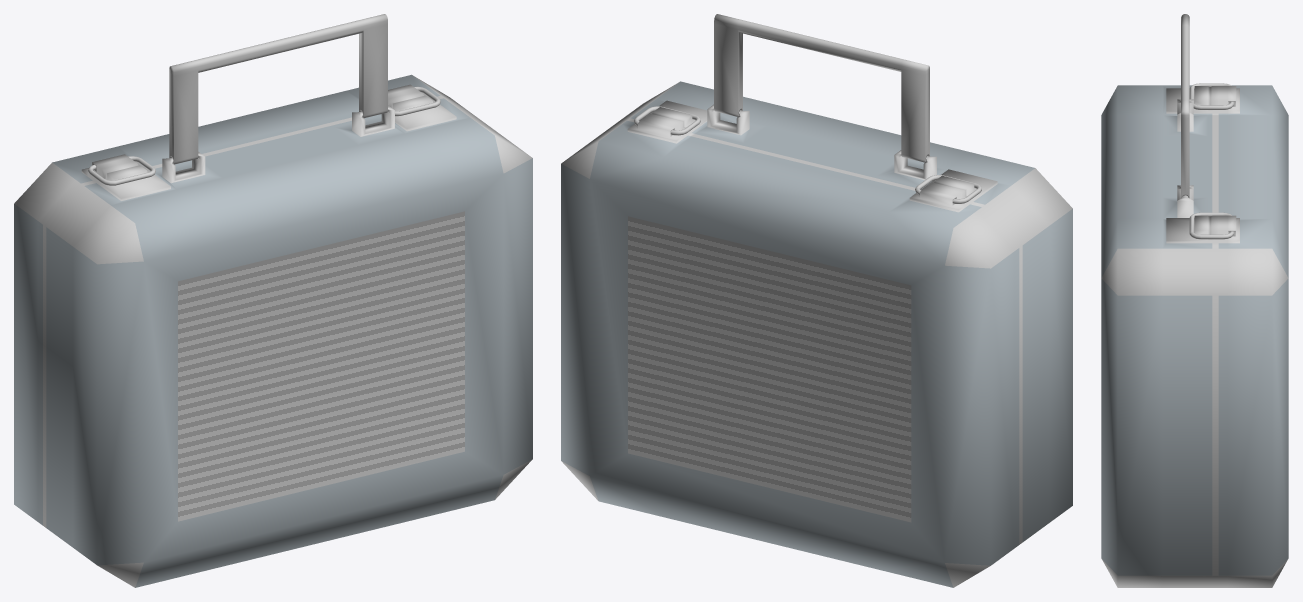
The model's file is Attache case.fbx.
3 renders of one model, left to right at view 1: azimuth 30°, elevation 25°; view 2: azimuth 150°, elevation 25°; view 3: azimuth 270°, elevation 25°, orthographic. The views are drawn at different scales.
Parts seen in each view (by area): view 1: Attache case; view 2: Attache case; view 3: Attache case.
Boxes of the visible parts, x1=… form: Attache case: x1=14, y1=14, x2=532, y2=587; Attache case: x1=561, y1=14, x2=1072, y2=587; Attache case: x1=1101, y1=14, x2=1288, y2=587.
Bounding box in the file's own units: 0.5 × 0.5336 × 0.2.
